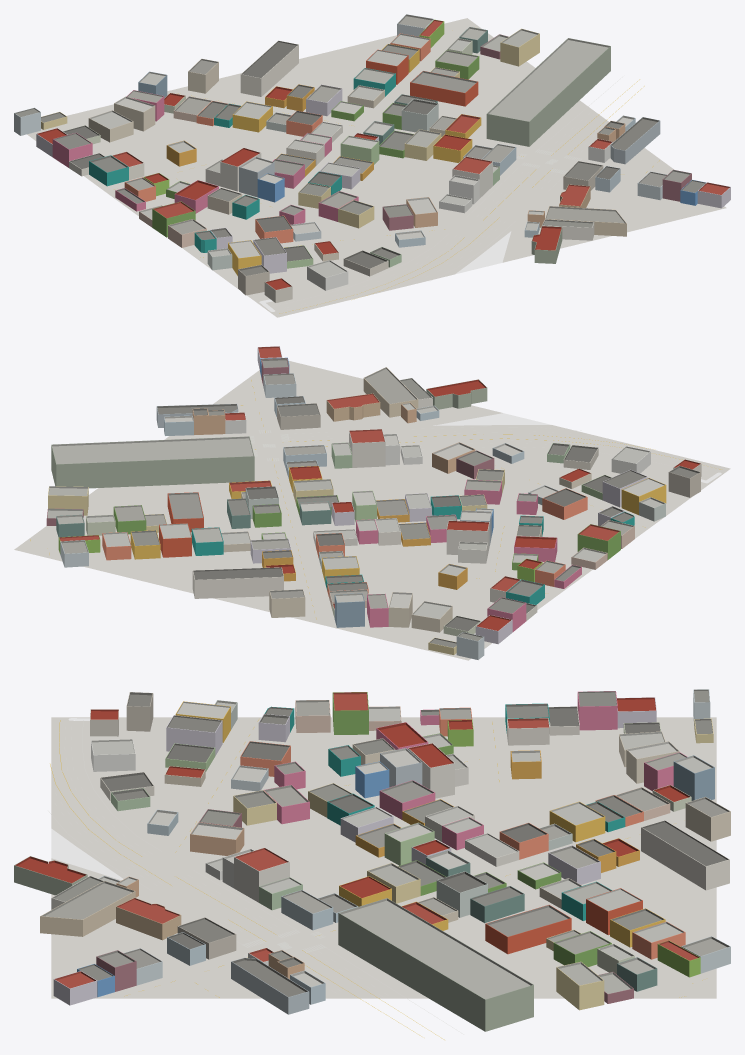
3 views of the same model, one above another, from view 1: azimuth 30°, elevation 25°; view 2: azimuth 150°, elevation 25°; view 3: azimuth 270°, elevation 25° (orthographic). The views are drawn at different scales.
Parts seen in each view (by area): view 1: ground, walls, roofs, markings, grass; view 2: ground, walls, roofs, grass, markings; view 3: ground, walls, roofs, markings, grass.
Part boxes in pixels (x1,y1,x2,y2): ground: (27,18,726,317); walls: (14,19,730,302); roofs: (14,14,730,290); markings: (114,77,659,313); grass: (455,231,511,274); ground: (14,361,730,660); walls: (46,348,701,659); roofs: (47,346,701,648); grass: (433,413,551,425); markings: (30,380,720,619); ground: (51,717,716,998); walls: (14,693,730,1031); roofs: (14,689,730,999); markings: (48,720,702,1039); grass: (51,828,123,880).
Size of what is drawn, in the model's own units: 291 by 13.3 by 269.
